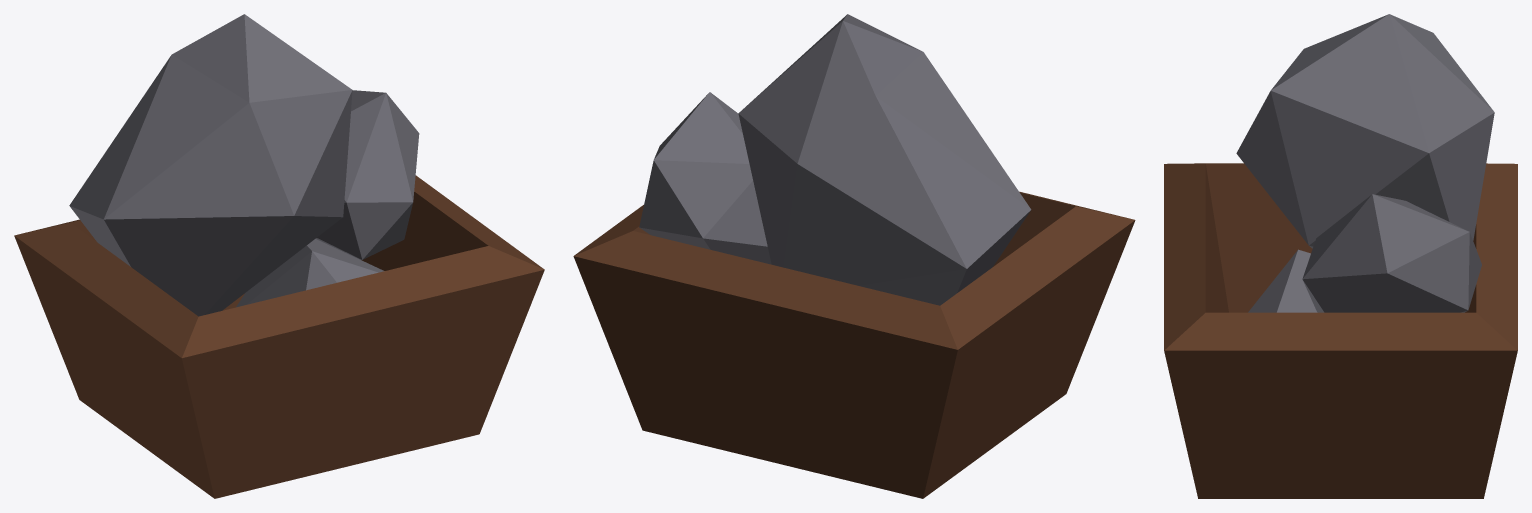
Rendered from 690 Minerals II.fbx.
3 renders of one model, left to right at view 1: azimuth 30°, elevation 25°; view 2: azimuth 150°, elevation 25°; view 3: azimuth 270°, elevation 25°, orthographic. The views are drawn at different scales.
Parts seen in each view (by area): view 1: Cart, Rock 2 L, Rock 2 M, Rock 2 S; view 2: Cart, Rock 2 L, Rock 2 M; view 3: Cart, Rock 2 L, Rock 2 M, Rock 2 S.
Part boxes in pixels (bbox=[...]): Cart: bbox=[14, 175, 544, 498]; Rock 2 L: bbox=[69, 14, 352, 316]; Rock 2 M: bbox=[315, 90, 419, 259]; Rock 2 S: bbox=[236, 239, 384, 307]; Cart: bbox=[573, 191, 1135, 498]; Rock 2 L: bbox=[738, 14, 1031, 305]; Rock 2 M: bbox=[639, 92, 771, 264]; Cart: bbox=[1164, 163, 1517, 498]; Rock 2 L: bbox=[1236, 14, 1494, 248]; Rock 2 M: bbox=[1302, 194, 1481, 312]; Rock 2 S: bbox=[1248, 249, 1317, 312].
Size of the model in its own units: 640 by 655 by 512.
